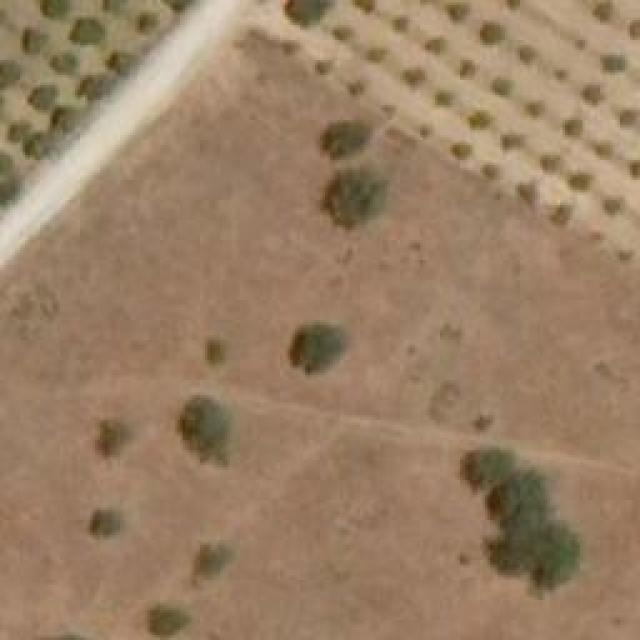Tree: (482, 474, 548, 579), (533, 525, 588, 585), (328, 170, 383, 225), (185, 398, 228, 458), (298, 322, 348, 370), (322, 118, 370, 153), (462, 450, 510, 480), (150, 610, 193, 635), (198, 545, 228, 578), (93, 510, 126, 538), (103, 418, 128, 451), (205, 335, 233, 363), (290, 0, 325, 22), (478, 20, 508, 45), (73, 18, 106, 38), (80, 77, 115, 95), (28, 85, 53, 110), (465, 108, 495, 128), (28, 133, 51, 158), (23, 28, 46, 53), (448, 3, 471, 26), (403, 65, 426, 88), (0, 62, 18, 90), (40, 0, 68, 18), (420, 37, 448, 55), (515, 183, 535, 208), (53, 53, 76, 73), (540, 153, 563, 173), (570, 173, 593, 193), (8, 122, 31, 140), (105, 52, 128, 70), (388, 15, 411, 33), (457, 58, 475, 81), (490, 77, 513, 95), (53, 108, 73, 128), (435, 88, 455, 108), (550, 203, 570, 223), (600, 55, 625, 70), (563, 120, 583, 138), (583, 85, 603, 103), (500, 133, 523, 148), (140, 12, 158, 30), (367, 45, 385, 63), (347, 80, 365, 98), (595, 0, 613, 18), (333, 25, 353, 40), (450, 143, 470, 158), (603, 198, 618, 218), (520, 45, 535, 63), (527, 103, 545, 118), (315, 60, 333, 75), (595, 140, 610, 158), (283, 40, 298, 55), (620, 110, 635, 125)
